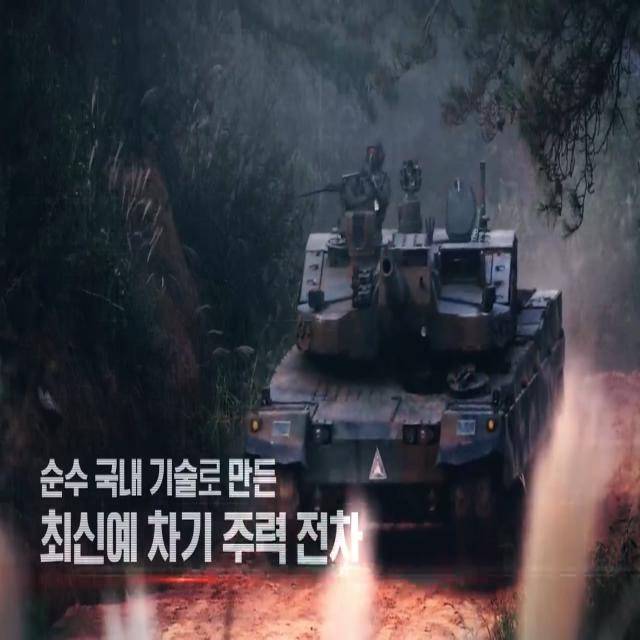korea tank: (244, 137, 566, 571)
